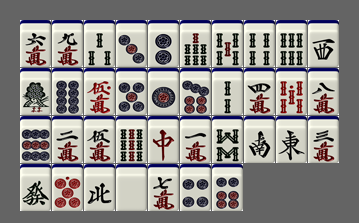0m: (84, 68, 115, 115)
0p: (52, 164, 83, 211)
0s: (276, 68, 307, 115)
1m: (180, 116, 211, 163)
1p: (148, 68, 179, 115)
1s: (20, 68, 51, 115)
1z: (276, 116, 307, 163)
2m: (52, 116, 83, 163)
2p: (148, 20, 179, 67)
2s: (212, 68, 243, 115)
2z: (244, 116, 275, 163)
3m: (308, 116, 339, 163)
3p: (116, 20, 147, 67)
3s: (84, 20, 115, 67)
3z: (308, 20, 339, 67)
4m: (244, 68, 275, 115)
4p: (180, 164, 211, 211)
4s: (244, 20, 275, 67)
4z: (84, 164, 115, 211)
5m: (84, 116, 115, 163)
5p: (116, 68, 147, 115)
5s: (212, 20, 243, 67)
5z: (116, 164, 147, 211)
6m: (20, 20, 51, 67)
6p: (212, 164, 243, 211)
6s: (276, 20, 307, 67)
6z: (20, 164, 51, 211)
7m: (148, 164, 179, 211)
7p: (180, 68, 211, 115)
7s: (180, 20, 211, 67)
7z: (148, 116, 179, 163)
8m: (308, 68, 339, 115)
8p: (52, 68, 83, 115)
8s: (212, 116, 243, 163)
9m: (52, 20, 83, 67)
9p: (20, 116, 51, 163)
9s: (116, 116, 147, 163)
